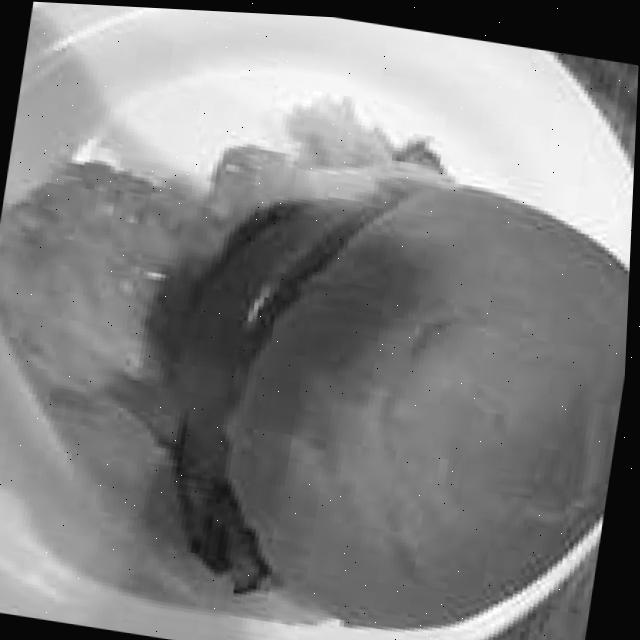汉堡快餐: (0, 83, 637, 640)
